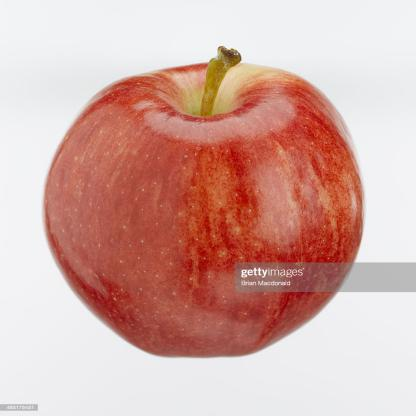Apple: (42, 30, 386, 364)
